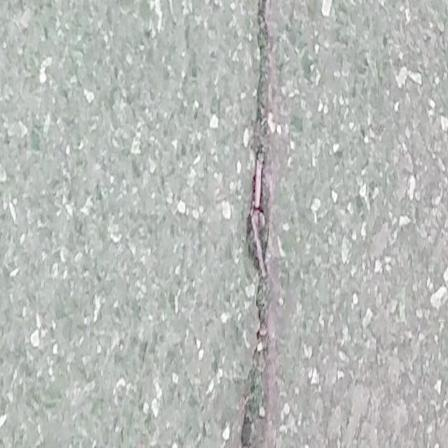crack: (232, 0, 292, 448)
